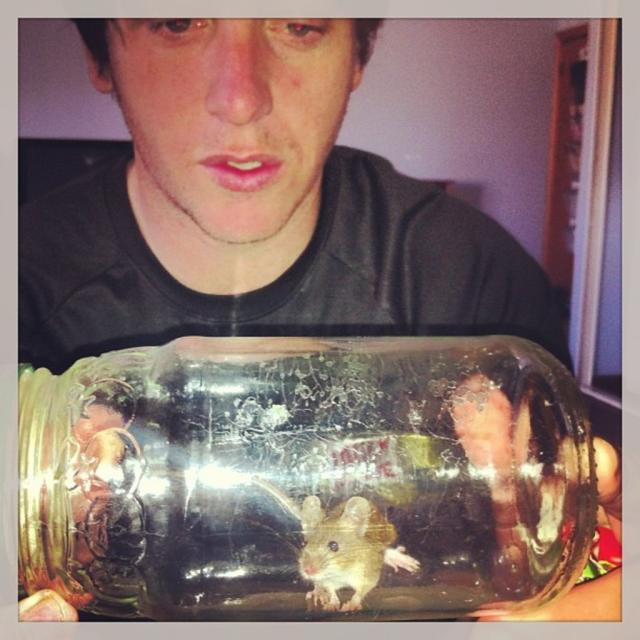rat: (296, 493, 418, 611)
